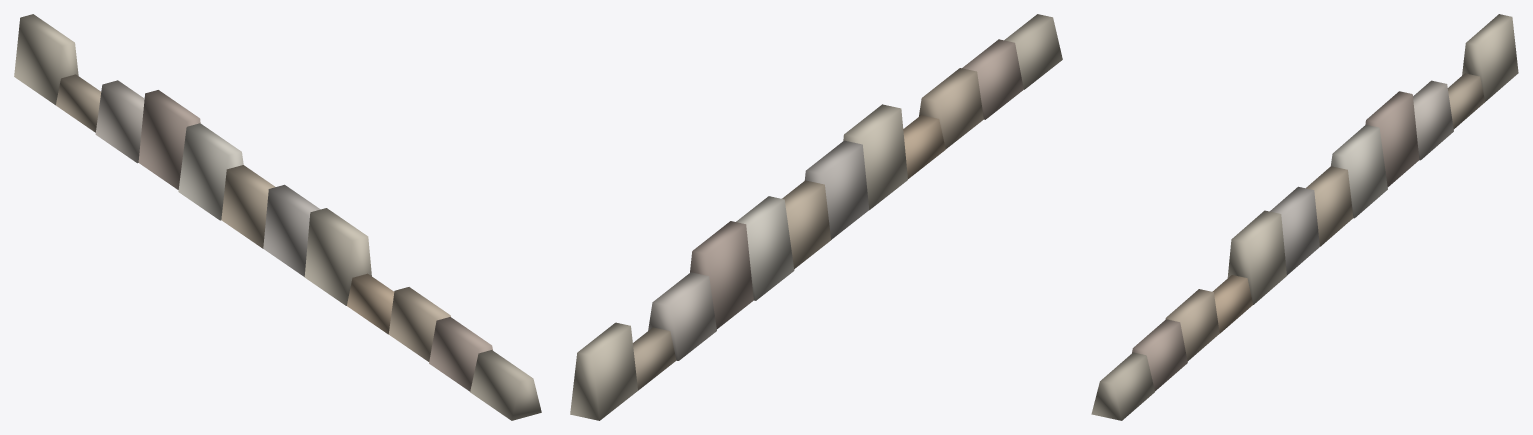
Rendered from farm_14_18_collision.glb.
3 views of the same model, side by side, from view 1: azimuth 30°, elevation 25°; view 2: azimuth 150°, elevation 25°; view 3: azimuth 330°, elevation 25° (orthographic). The views are drawn at different scales.
Visible parts, largest first — view 1: geometry_0; view 2: geometry_0; view 3: geometry_0.
Part boxes in pixels (<box>): geometry_0: <box>14,14,541,420</box>; geometry_0: <box>570,14,1062,420</box>; geometry_0: <box>1091,14,1518,420</box>.
Bounding box in the file's own units: 1.67 × 1.85 × 19.11.
